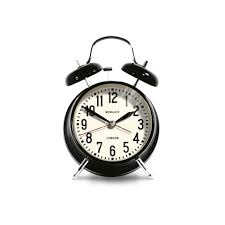alarm_clock: (63, 32, 158, 178), (74, 32, 158, 178)
